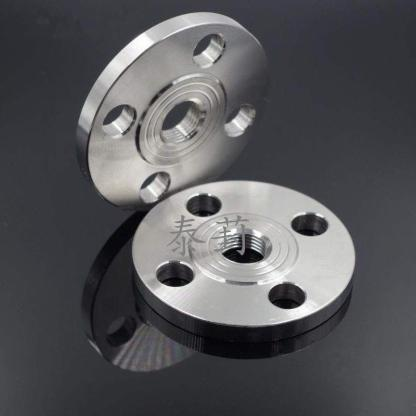FOD: (68, 7, 279, 216), (128, 176, 364, 342)
